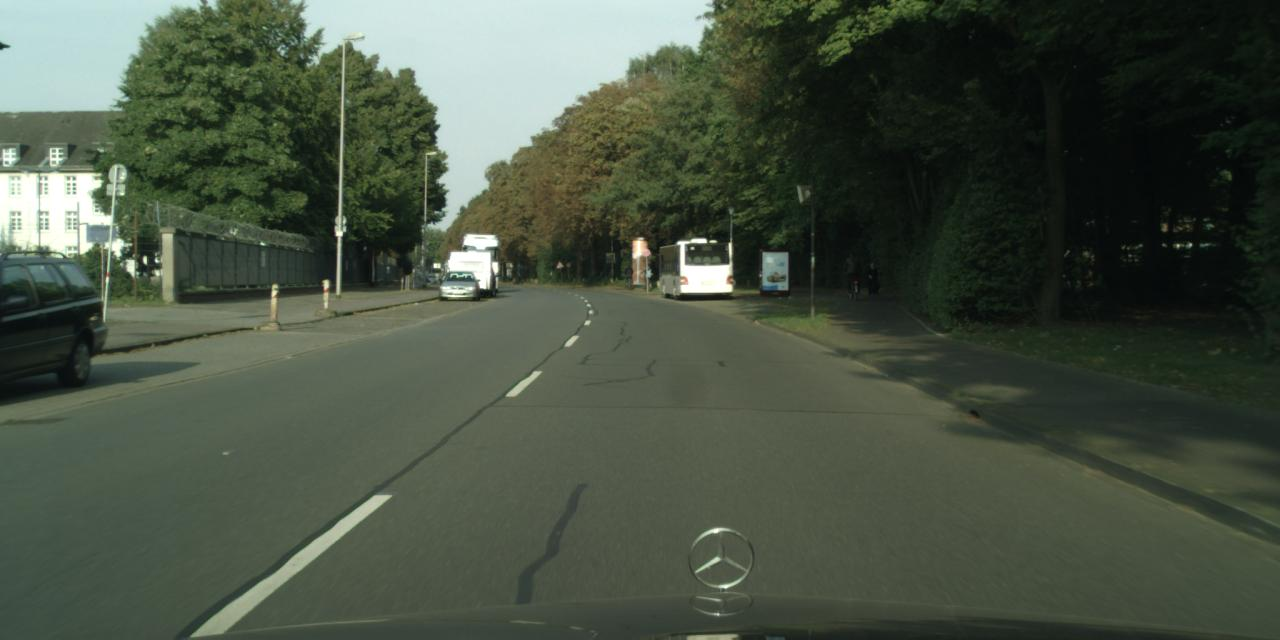ped: (844, 250, 860, 292), (866, 261, 879, 293), (642, 264, 652, 288), (624, 264, 632, 285)
